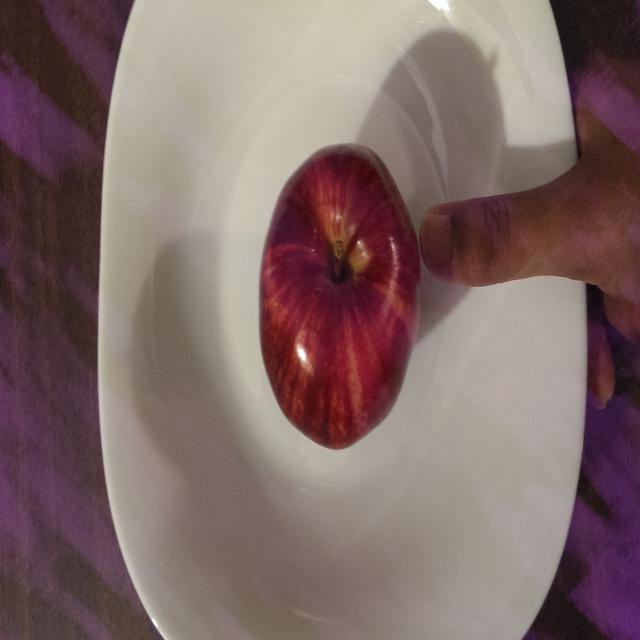apple: (242, 135, 423, 471)
